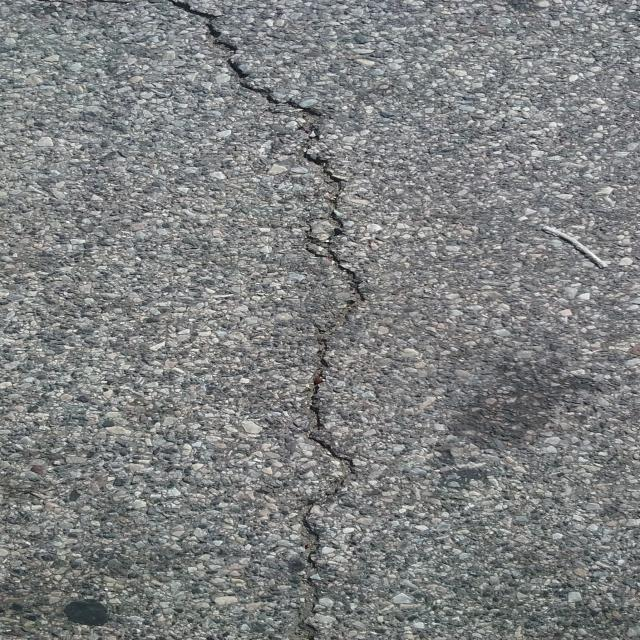Crack: (34, 0, 369, 640)
